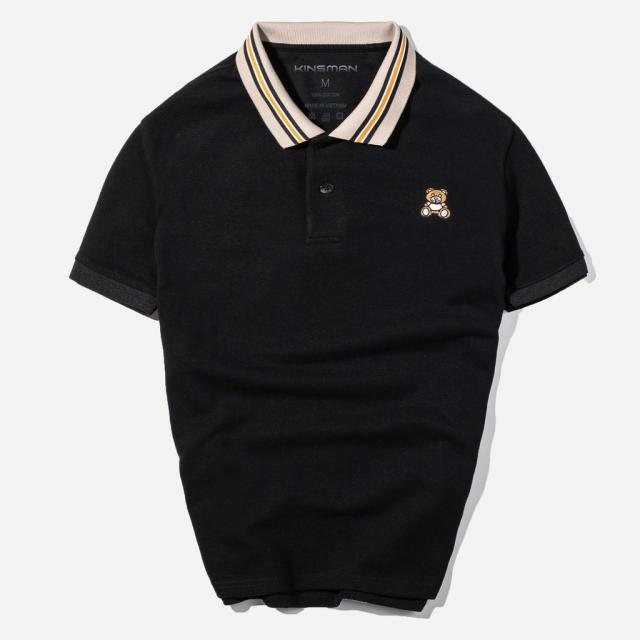Shirt: (65, 16, 591, 614)
